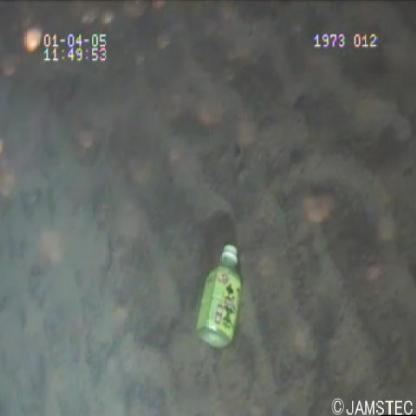Rác: (190, 238, 253, 355)
